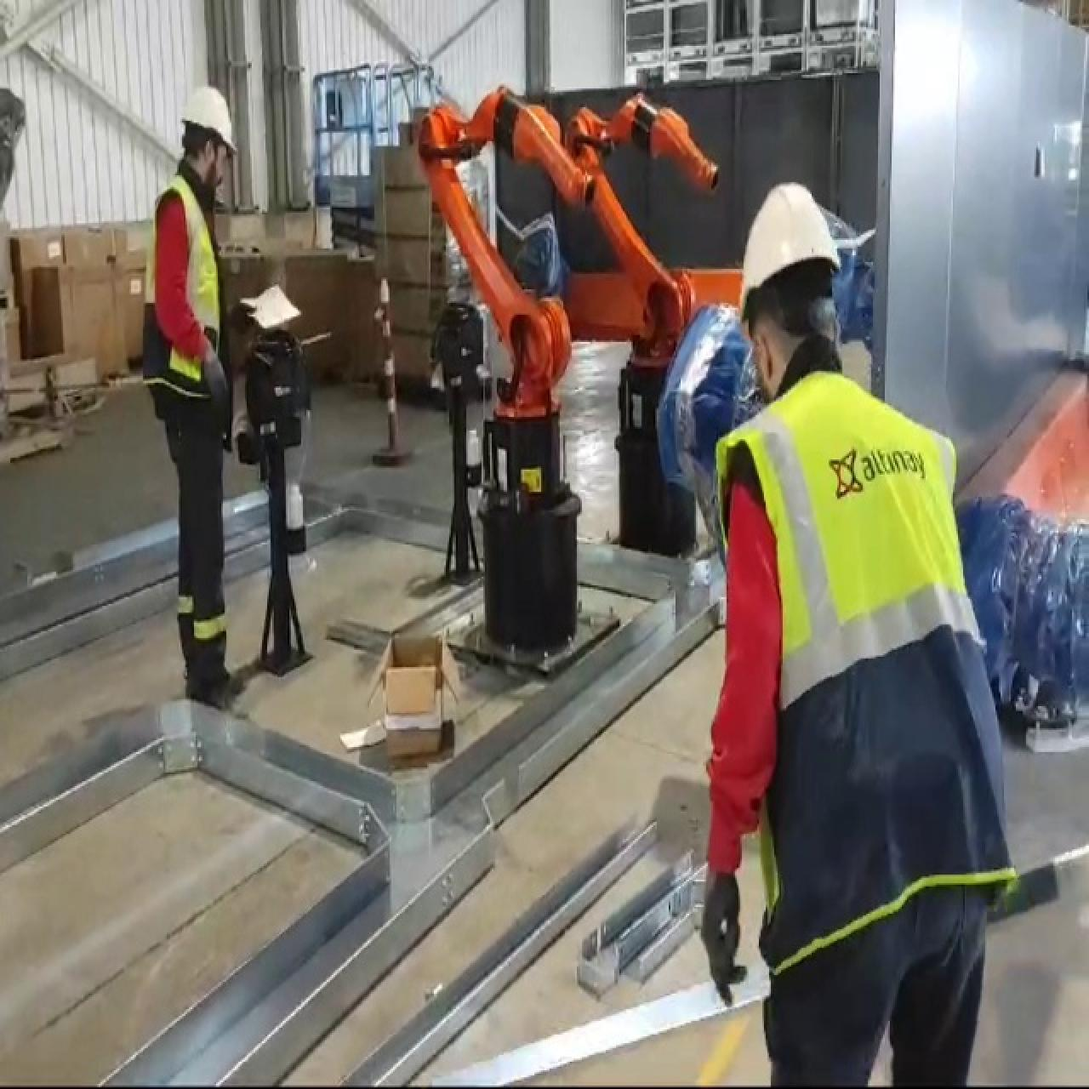Person: (640, 148, 1009, 1089), (119, 61, 287, 702)
Safety_Vest: (685, 379, 1019, 989)
